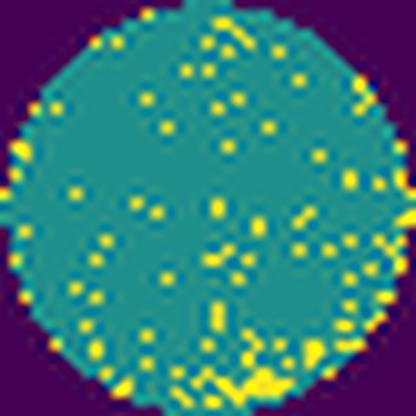Edge-Loc: (172, 360, 299, 415)
